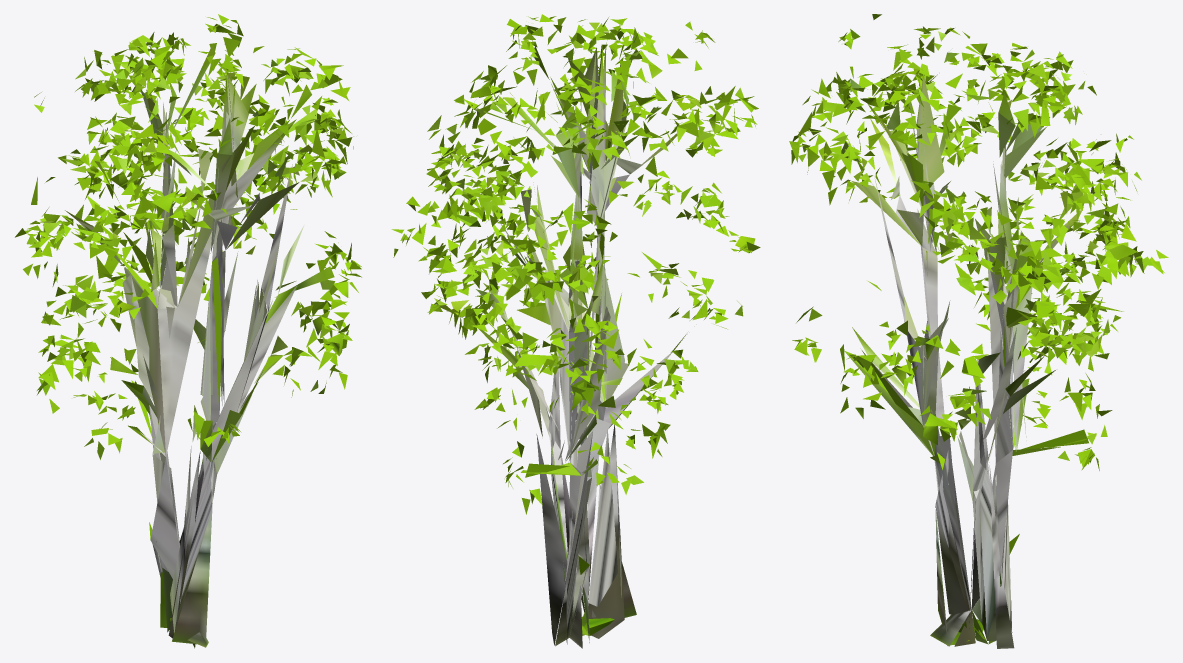
The model's file is meshy-tree-m2-lod.glb.
The picture shows the model from 3 angles, left to right: view 1: azimuth 30°, elevation 25°; view 2: azimuth 150°, elevation 25°; view 3: azimuth 270°, elevation 25°; orthographic projection.
Visible parts, largest first — view 1: Mesh_0; view 2: Mesh_0; view 3: Mesh_0.
Part boxes in pixels (x1,y1,x2,y2): Mesh_0: (15, 14, 361, 648); Mesh_0: (391, 14, 760, 648); Mesh_0: (789, 14, 1168, 648).
Size of the model in its own units: 0.9518 by 1.89 by 1.07.
Materials: 1 (1 with a texture image).
